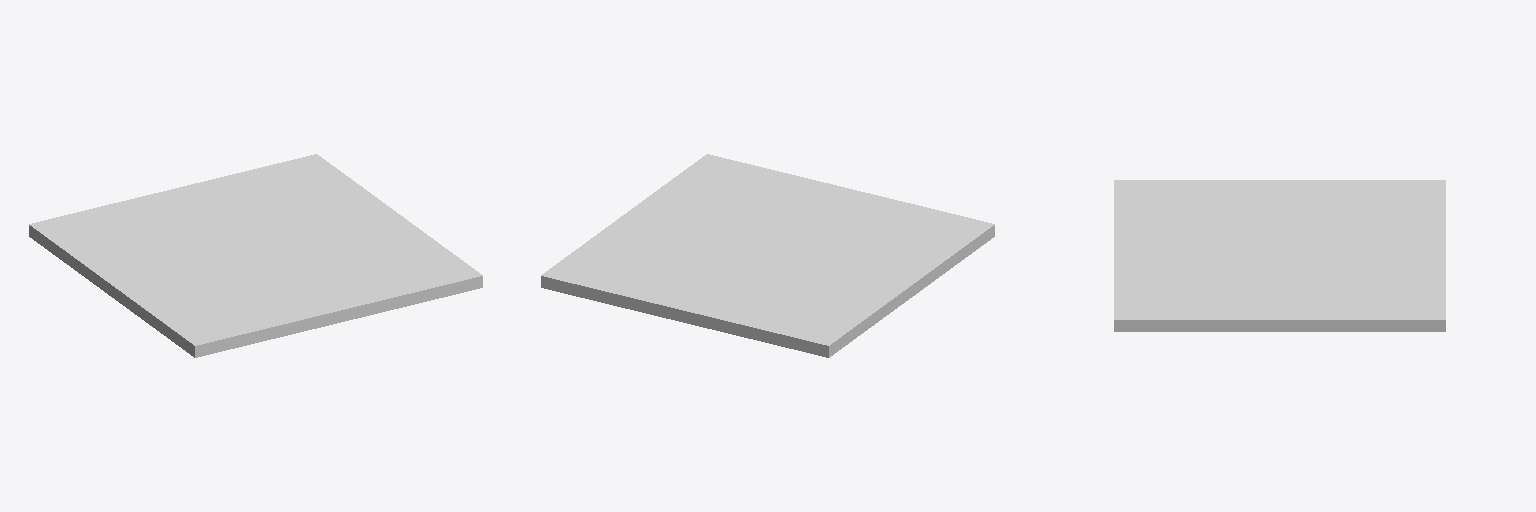
File: build0.obj
3 renders of one model, left to right at view 1: azimuth 30°, elevation 25°; view 2: azimuth 150°, elevation 25°; view 3: azimuth 270°, elevation 25°, orthographic.
Bounding box in the file's own units: 25 × 1 × 25.